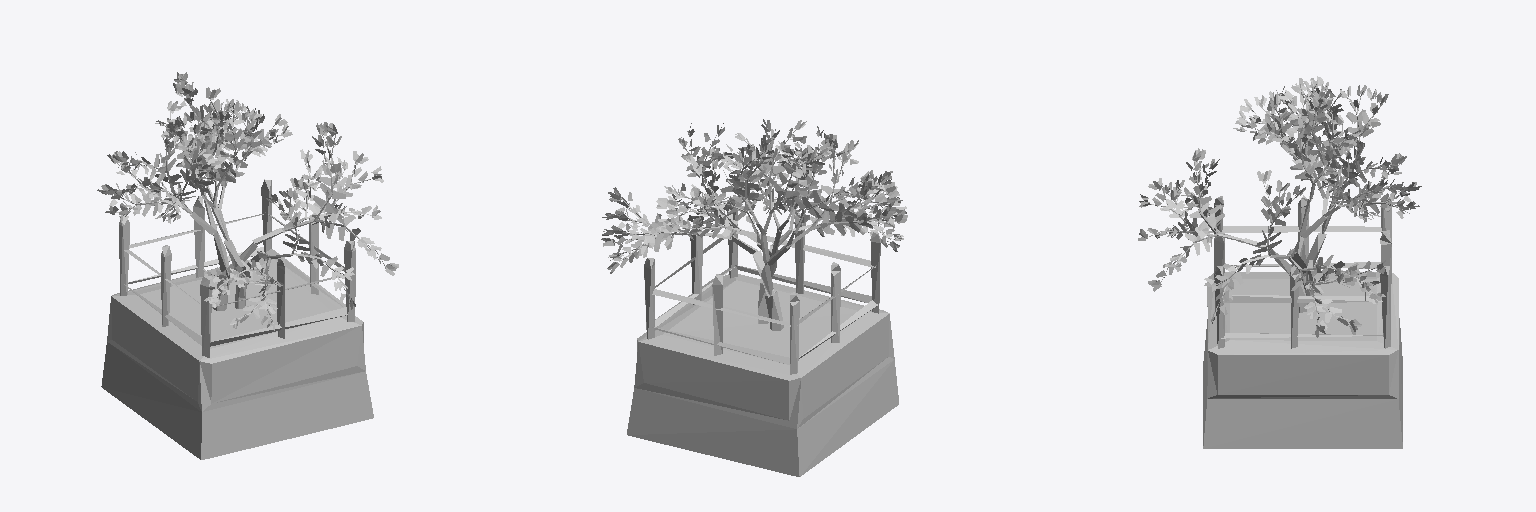
File: decimatedplant0.2.obj
3 views of the same model, side by side, from view 1: azimuth 30°, elevation 25°; view 2: azimuth 150°, elevation 25°; view 3: azimuth 270°, elevation 25° (orthographic).
Visible parts, largest first — view 1: objPlant.007; view 2: objPlant.007; view 3: objPlant.007.
Boxes of the visible parts, x1,y1,x2,y2 form: objPlant.007: [97, 72, 398, 459]; objPlant.007: [601, 119, 907, 476]; objPlant.007: [1138, 76, 1421, 448].
Bounding box in the file's own units: 0.5649 × 0.5845 × 0.4798.